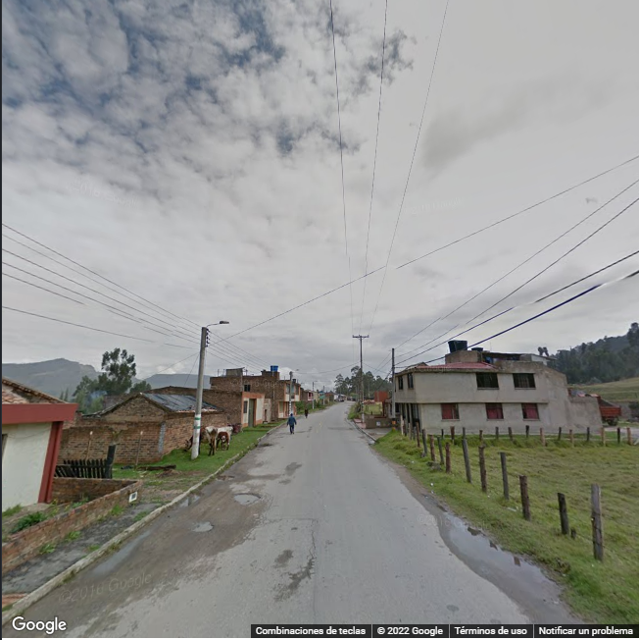D00: (309, 513, 321, 559)
D40: (227, 488, 262, 503), (187, 517, 217, 533)
